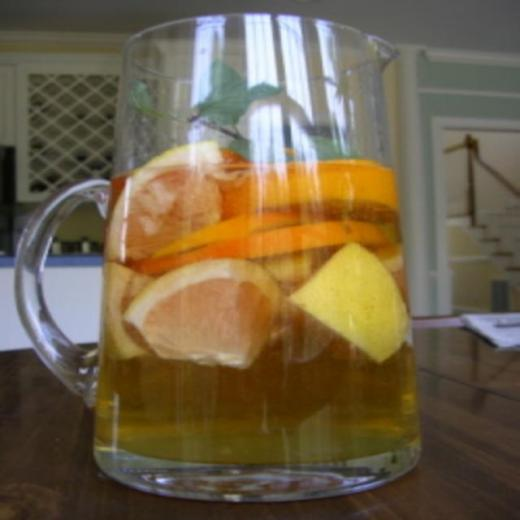Grape: (285, 248, 407, 362)
